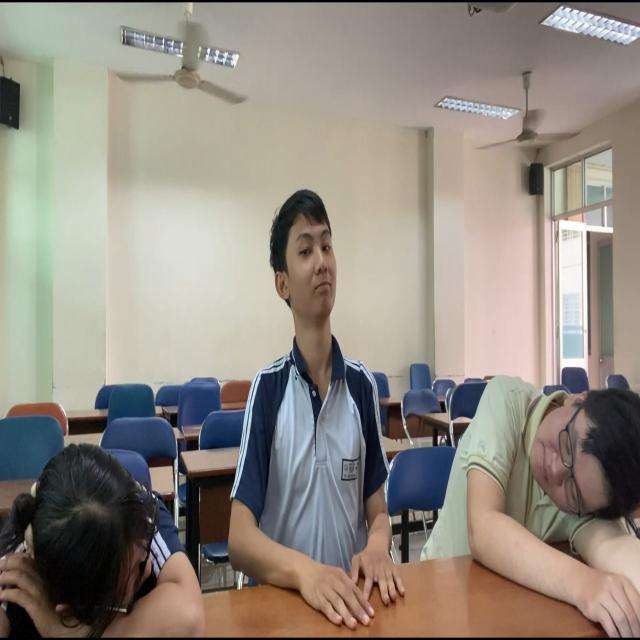sleep: (420, 369, 640, 640), (2, 440, 216, 640)
